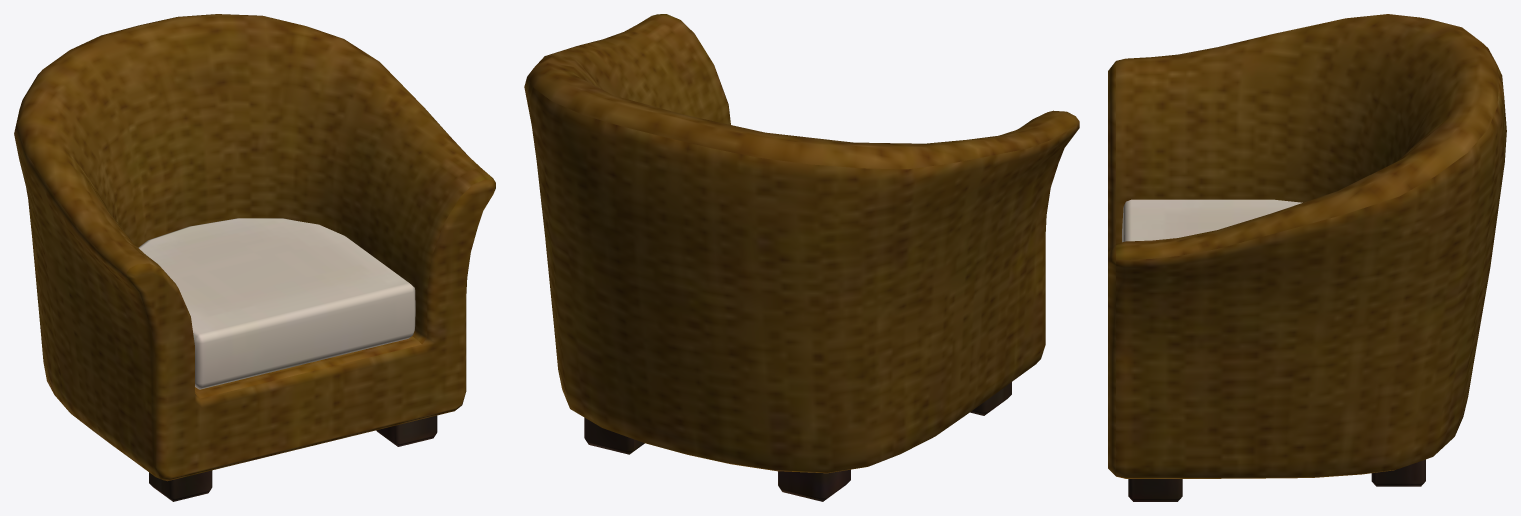
3 renders of one model, left to right at view 1: azimuth 30°, elevation 25°; view 2: azimuth 150°, elevation 25°; view 3: azimuth 270°, elevation 25°, orthographic. The views are drawn at different scales.
Size of the model in its own units: 9.78 by 8.22 by 8.28.
Materials: 1 (1 with a texture image).
